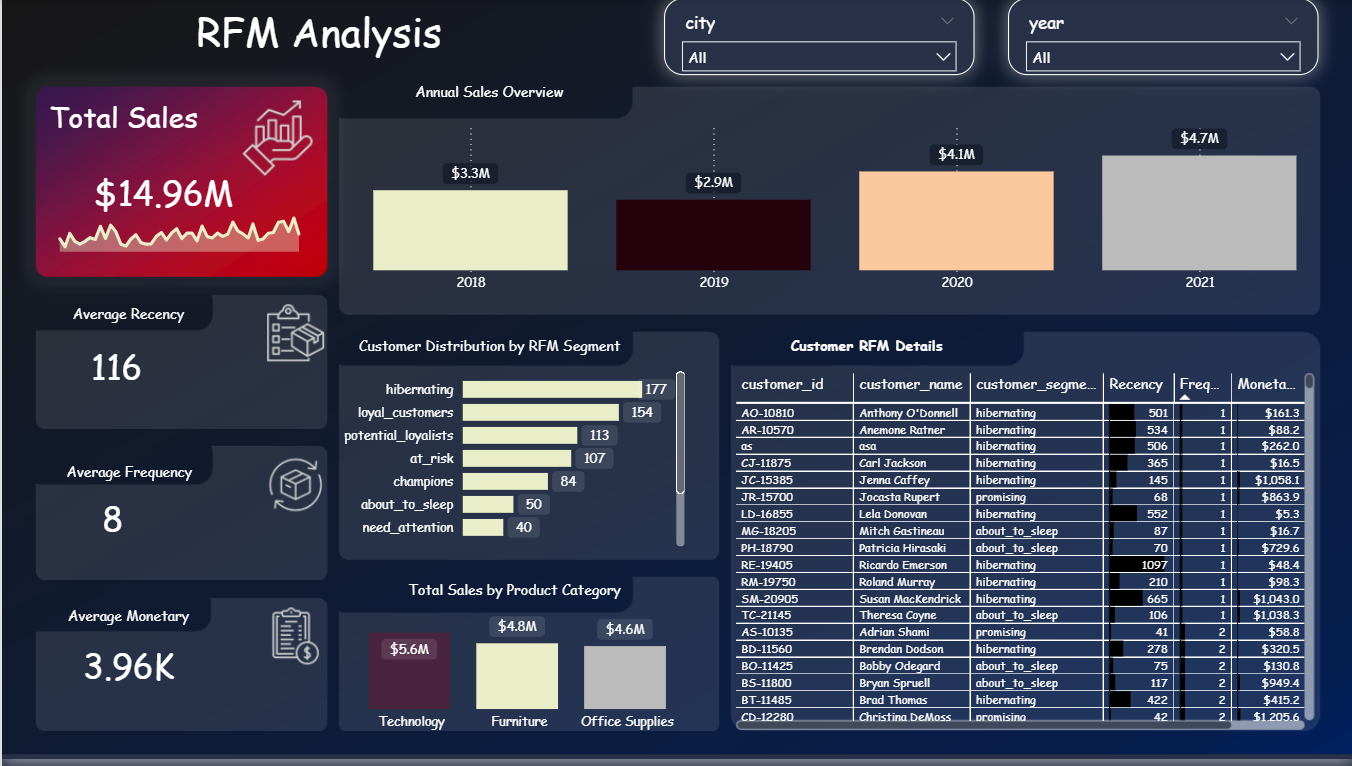

This screenshot's page, from the dashboard's own definition file:
{"tool":"powerbi","page":{"name":"RFM ","canvas":[1280,720],"ordinal":2},"visuals":[{"type":"textbox","box":[10.6,0,577.8,72.8],"z":0},{"type":"card","fields":{"Values":["DaxMeasureas.Total Sales"]},"box":[22.7,109.2,260.9,150.1],"z":1000},{"type":"textbox","box":[39.4,89.5,260.9,84.9],"z":2000},{"type":"card","fields":{"Values":["DaxMeasureas.AvgRecency"]},"box":[0,304.8,216.9,89.5],"z":3000},{"type":"card","fields":{"Values":["DaxMeasureas.AvgFrequency"]},"box":[7.6,455,194.1,78.9],"z":4000},{"type":"card","fields":{"Values":["DaxMeasureas.AvgMonetary"]},"box":[22.7,570.2,194.1,125.9],"z":5000},{"type":"textbox","box":[0,283.6,239.6,40.9],"z":6000},{"type":"textbox","box":[7.6,433.7,226,42.5],"z":7000},{"type":"textbox","box":[0,570.2,239.6,39.4],"z":8000},{"type":"slicer","fields":{"Values":["dim_date.year"]},"box":[952.4,0,294.2,72.8],"z":9000},{"type":"areaChart","title":"Total Sales by Year, Quarter, Month and Day","fields":{"Category":["dim_date.full_date.Variation.Date Hierarchy.Year","dim_date.full_date.Variation.Date Hierarchy.Quarter","dim_date.full_date.Variation.Date Hierarchy.Month"],"Y":["DaxMeasureas.Total Sales"]},"box":[39.4,185,256.3,60.7],"z":10000},{"type":"lineClusteredColumnComboChart","title":"Total Sales by years","fields":{"Y":["DaxMeasureas.Total Sales"],"Category":["dim_date.full_date.Variation.Date Hierarchy.Year"]},"box":[347.3,109.2,884.2,179],"z":11000},{"type":"textbox","box":[364,74.3,195.6,34.9],"z":12000},{"type":"clusteredBarChart","title":"Total Customers by Customers segment","fields":{"Category":["dim_customer.customer_segment"],"Y":["DaxMeasureas.Total Customers"]},"box":[317,341.2,335.2,183.5],"z":13000},{"type":"textbox","box":[317,313.9,291.2,36.4],"z":14000},{"type":"clusteredColumnChart","title":"Total Customers by Customers segment","fields":{"Category":["dim_product.category"],"Y":["DaxMeasureas.Total Sales"]},"box":[300.3,565.7,377.6,138],"z":15000},{"type":"tableEx","fields":{"Values":["dim_customer.customer_id","dim_customer.customer_name","dim_customer.customer_segment","fact_sales.Recency","fact_sales.Frequency","fact_sales.Monetary","fact_sales.rfm_score"]},"box":[690,350.3,558.1,347.3],"z":16000},{"type":"textbox","box":[668.8,313.9,300.3,36.4],"z":17000},{"type":"slicer","fields":{"Values":["dim_customer.city"]},"box":[626.4,0,294.2,72.8],"z":18000},{"type":"textbox","box":[300.3,546,368.5,47],"z":19000}]}

Visuals, with their boxes in screenshot pixels (x1, y1, x2, y2), scaled from the page's 1280x720 canvas onto the 1352x766 screenshot:
textbox: (left=11, top=0, right=621, bottom=77)
card - DaxMeasureas.Total Sales: (left=24, top=116, right=300, bottom=276)
textbox: (left=42, top=95, right=317, bottom=186)
card - DaxMeasureas.AvgRecency: (left=0, top=324, right=229, bottom=419)
card - DaxMeasureas.AvgFrequency: (left=8, top=484, right=213, bottom=568)
card - DaxMeasureas.AvgMonetary: (left=24, top=607, right=229, bottom=741)
textbox: (left=0, top=302, right=253, bottom=345)
textbox: (left=8, top=461, right=247, bottom=507)
textbox: (left=0, top=607, right=253, bottom=649)
slicer - dim_date.year: (left=1006, top=0, right=1317, bottom=77)
"Total Sales by Year, Quarter, Month and Day" areaChart: (left=42, top=197, right=312, bottom=261)
"Total Sales by years" lineClusteredColumnComboChart: (left=367, top=116, right=1301, bottom=307)
textbox: (left=384, top=79, right=591, bottom=116)
"Total Customers by Customers segment" clusteredBarChart: (left=335, top=363, right=689, bottom=558)
textbox: (left=335, top=334, right=642, bottom=373)
"Total Customers by Customers segment" clusteredColumnChart: (left=317, top=602, right=716, bottom=749)
tableEx - dim_customer.customer_id x dim_customer.customer_name: (left=729, top=373, right=1318, bottom=742)
textbox: (left=706, top=334, right=1024, bottom=373)
slicer - dim_customer.city: (left=662, top=0, right=972, bottom=77)
textbox: (left=317, top=581, right=706, bottom=631)
